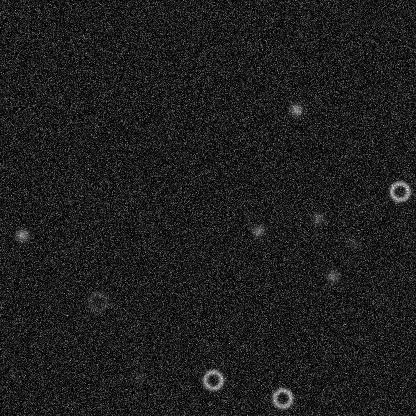Ring: (387, 179, 411, 203), (270, 386, 294, 410), (85, 289, 109, 313), (201, 367, 225, 391)
Spot: (131, 369, 147, 385), (324, 268, 340, 284), (249, 222, 265, 238), (310, 210, 326, 226), (288, 101, 304, 117), (13, 226, 29, 242), (345, 235, 361, 251)
